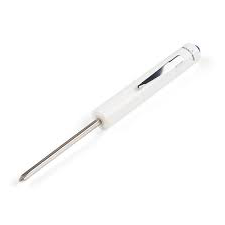Screwdriver: (15, 39, 205, 186)
